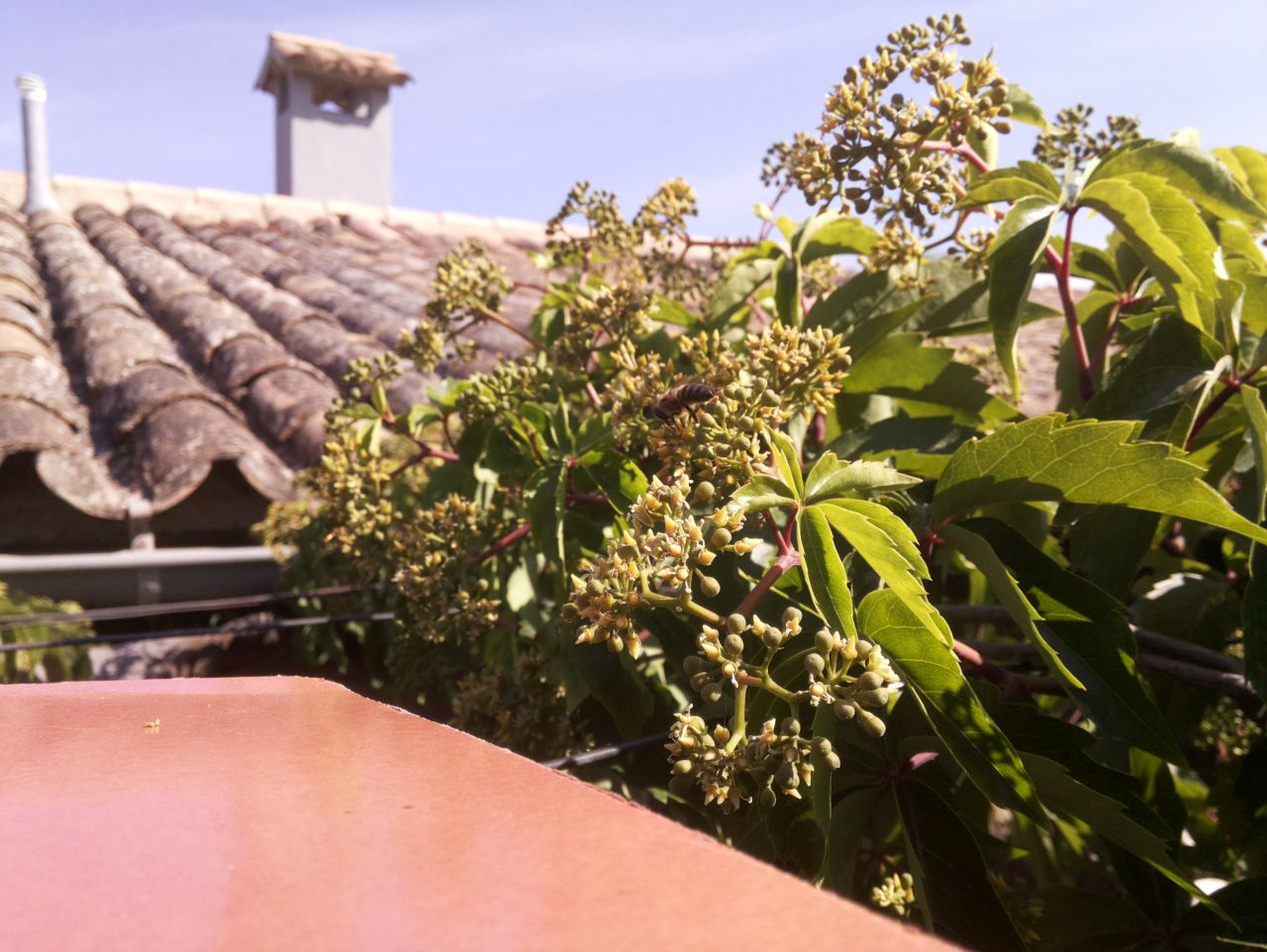Apis mellifera: (636, 373, 719, 438)
